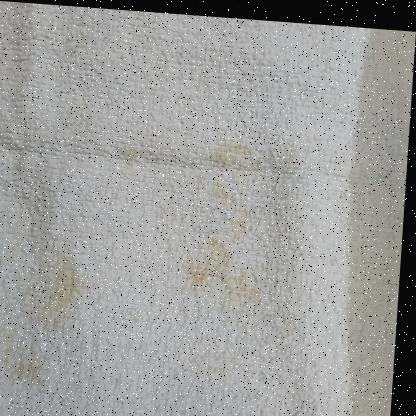spot: (0, 239, 98, 392), (183, 221, 305, 325), (203, 127, 279, 246), (28, 263, 93, 368), (19, 229, 83, 321), (120, 141, 150, 158)
